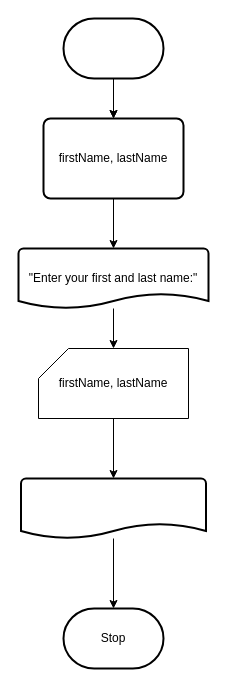
Some shapes in this 226 by 686 pixel diagram are drawn without their labels. Each missing label, with the centre of its shape:
firstName + "\n" + lastName: (x=113, y=508)
Start: (x=113, y=48)
